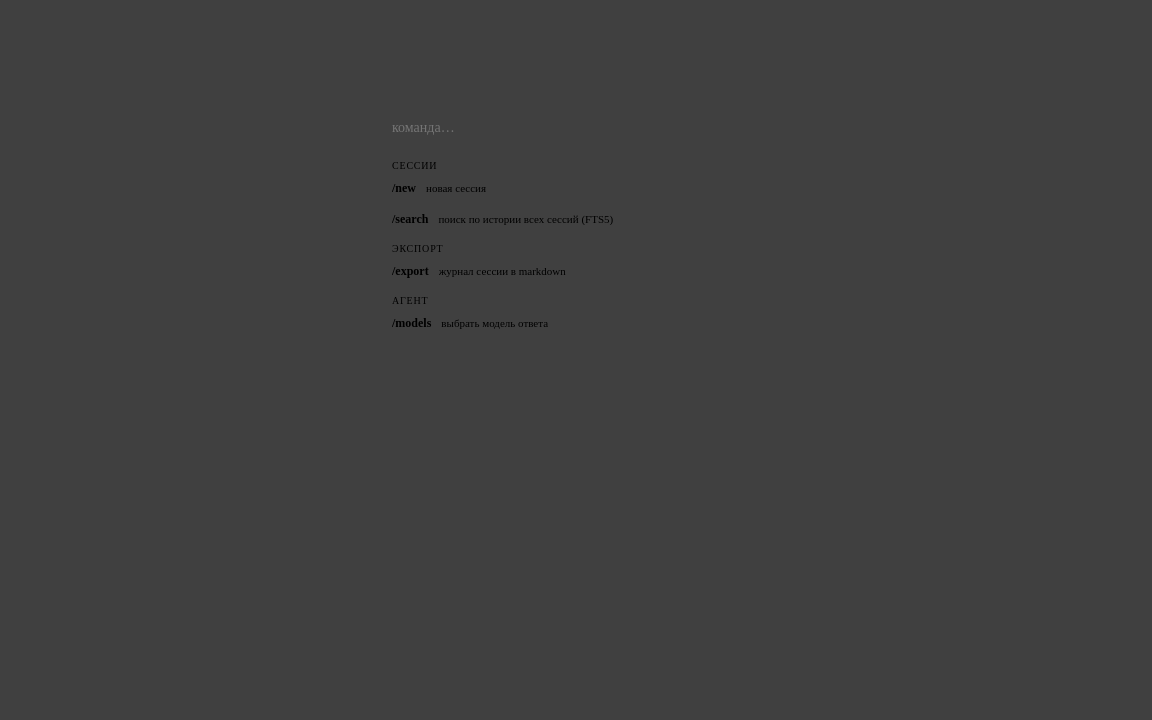
Test: Palette: smoke › ввод без совпадений показывает пустое состояние, а не пустоту
This screenshot has width=1152, height=720.
Type "zzz" into the field with placeholder "команда…".
click(592, 128); type("zzz")  # box [376,108,808,148]
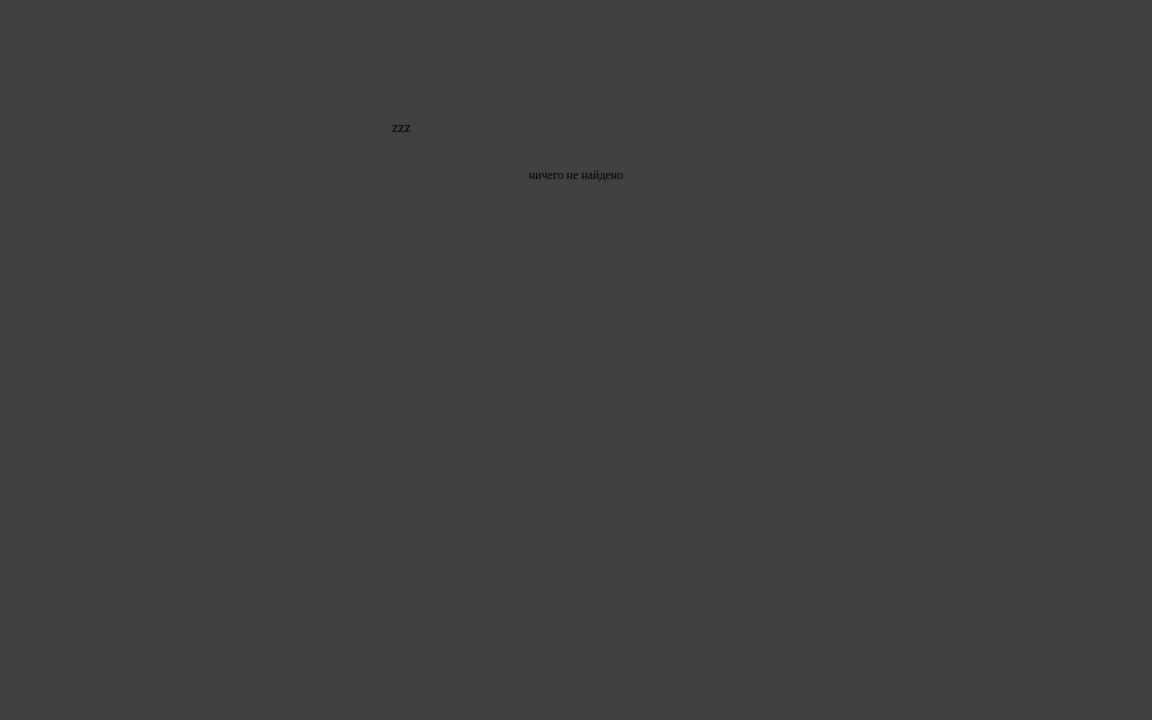
Expected: no options are shown
Expected: the text "ничего не найдено" is shown, [529,168,623,182]
